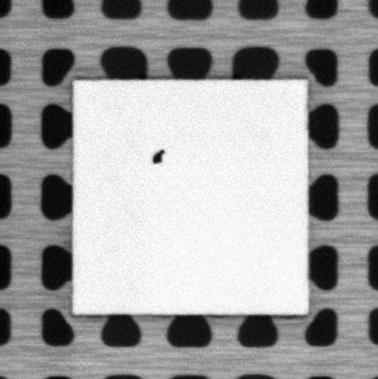DIE_INK: (150, 148, 168, 165)
